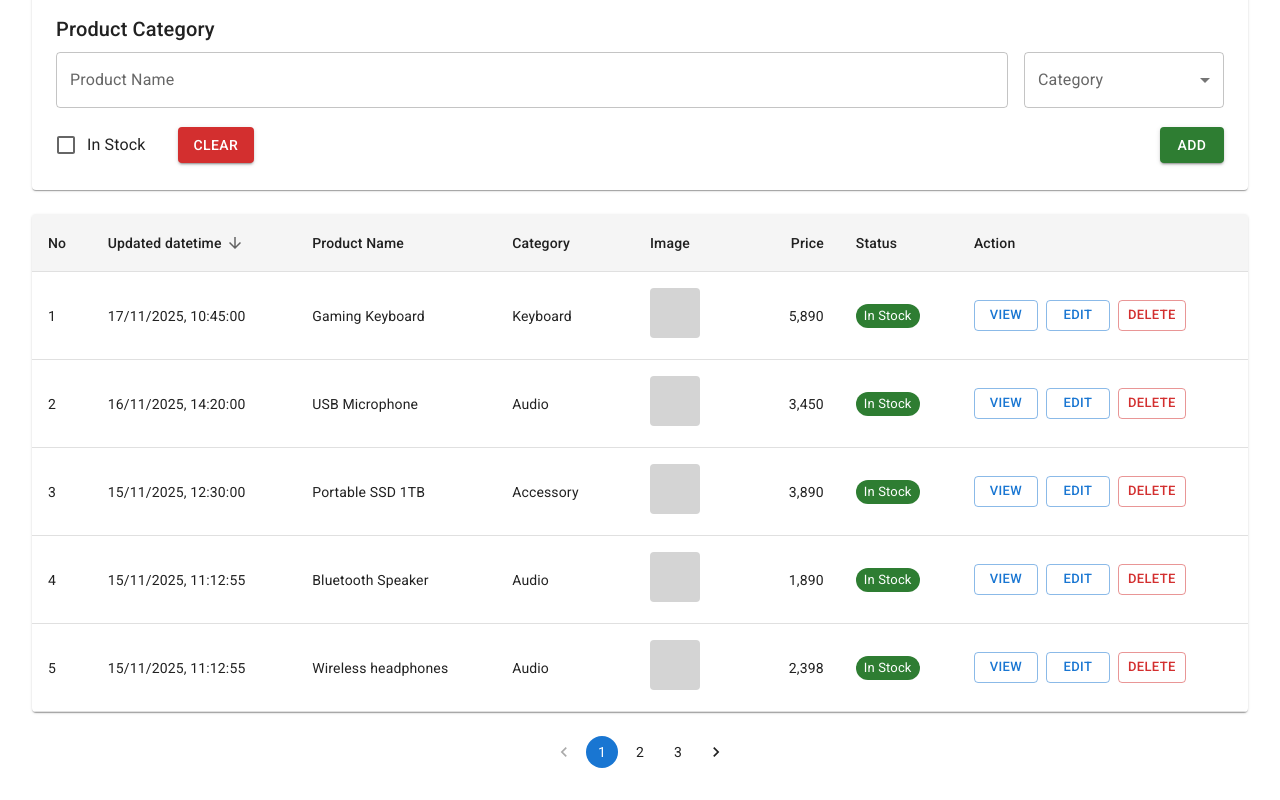
Test: Product Categories Feature Tests › Pagination › should navigate to next page
The width and height of the screenshot is (1280, 800).
(page scrolled)
Expected: the cell with test id "product-name-1" is shown, top-left (296, 536), bottom-right (496, 624)
Click page 2
Click the button named "Go to page 2" at (640, 752), box top-left (624, 736), bottom-right (656, 768)
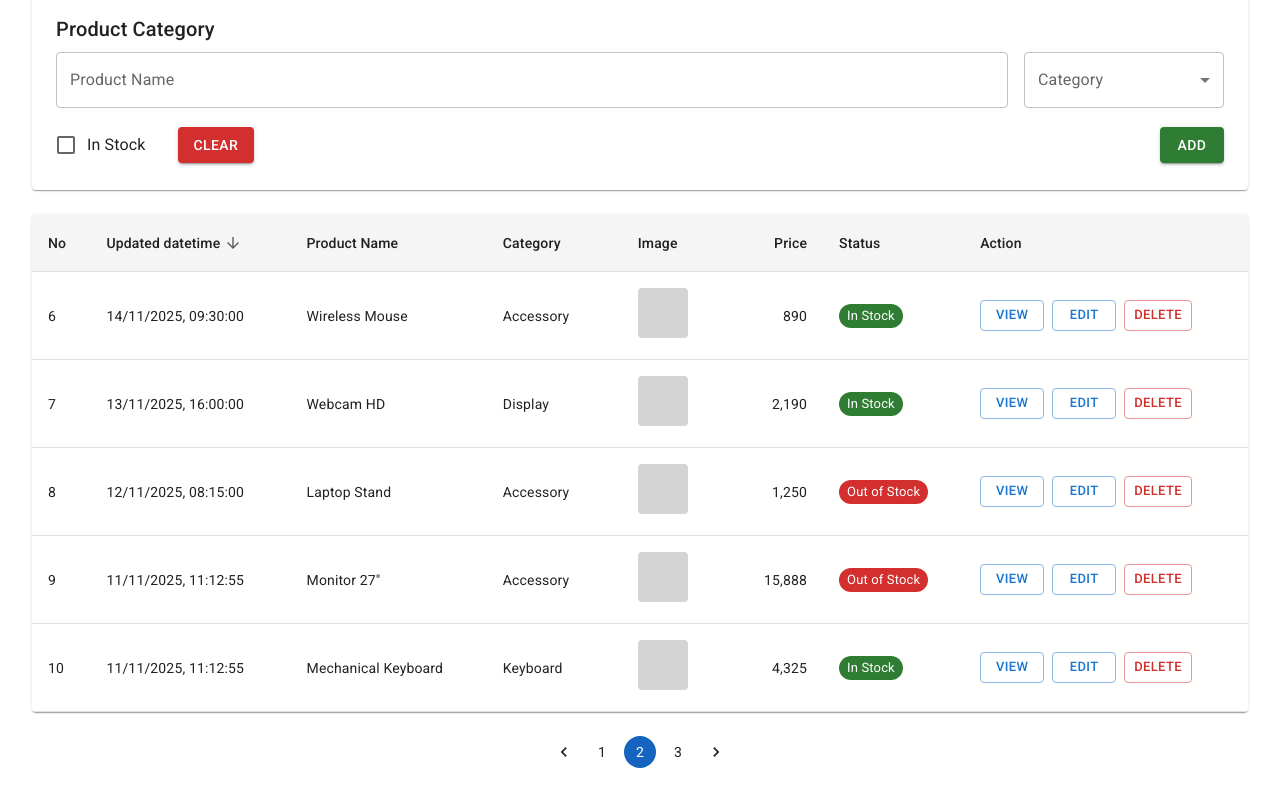
Now the cell with test id "product-name-1" is gone
